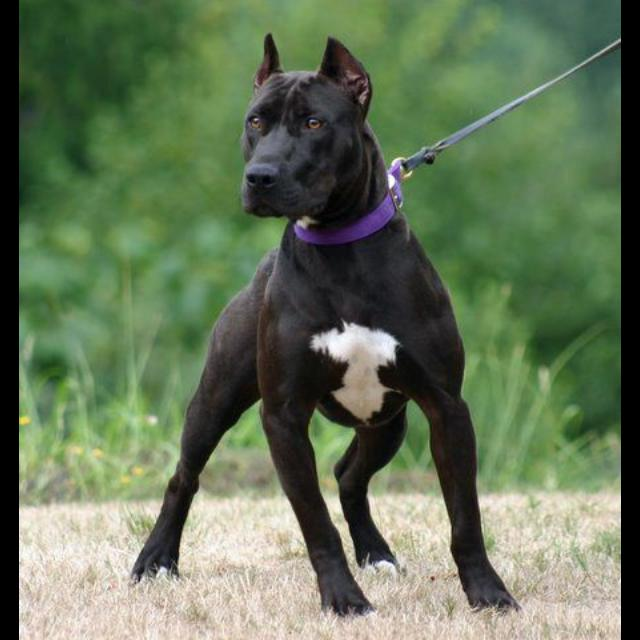am_pit_bull_terrier: (129, 32, 525, 621)
